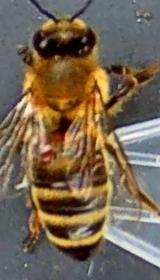varroa_mite: (30, 140, 60, 171)
